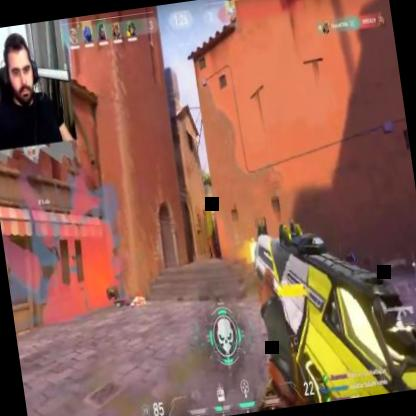enemy: (198, 198, 208, 226)
enemy_head: (201, 202, 205, 207)
